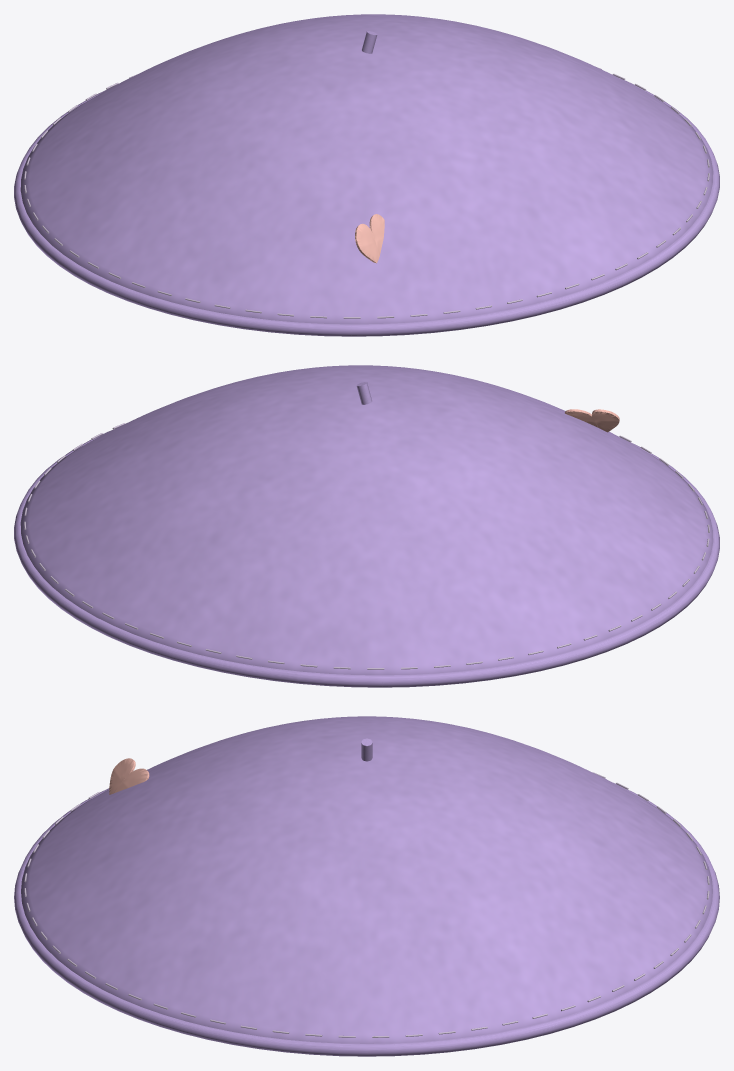
The model's file is experimental_beret_chic_penguin_v8.glb.
The picture shows the model from 3 angles, top to bottom: view 1: azimuth 30°, elevation 25°; view 2: azimuth 150°, elevation 25°; view 3: azimuth 270°, elevation 25°; orthographic projection. The views are drawn at different scales.
Parts seen in each view (by area): view 1: Boina pequeña · fieltro con forro; view 2: Boina pequeña · fieltro con forro; view 3: Boina pequeña · fieltro con forro.
Part boxes in pixels (x1,y1,x2,y2): Boina pequeña · fieltro con forro: [14, 14, 719, 336]; Boina pequeña · fieltro con forro: [14, 365, 719, 687]; Boina pequeña · fieltro con forro: [14, 716, 719, 1056].
Size of the model in its own units: 0.4821 by 0.1195 by 0.4618.
Materials: 3 (2 with a texture image).
